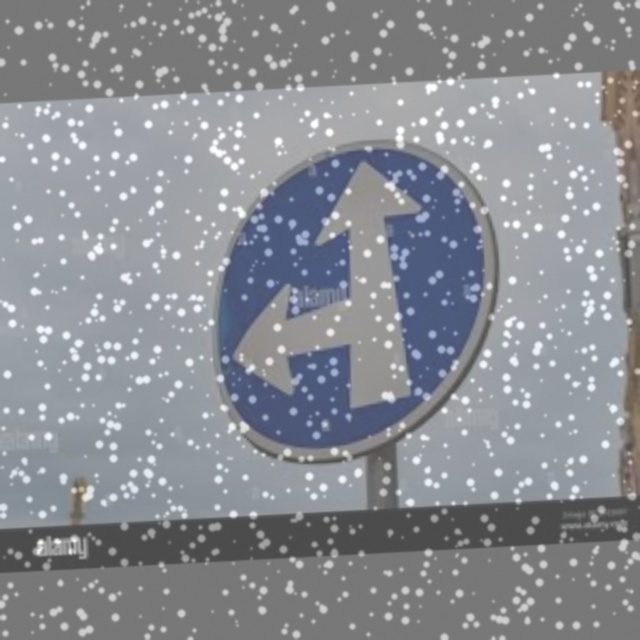Compulsory_Ahead_or_Turn_Left: (211, 136, 503, 460)
